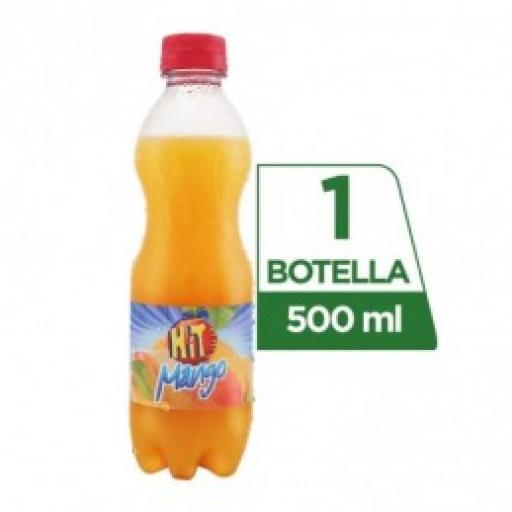JugoHM: (110, 0, 275, 485)
